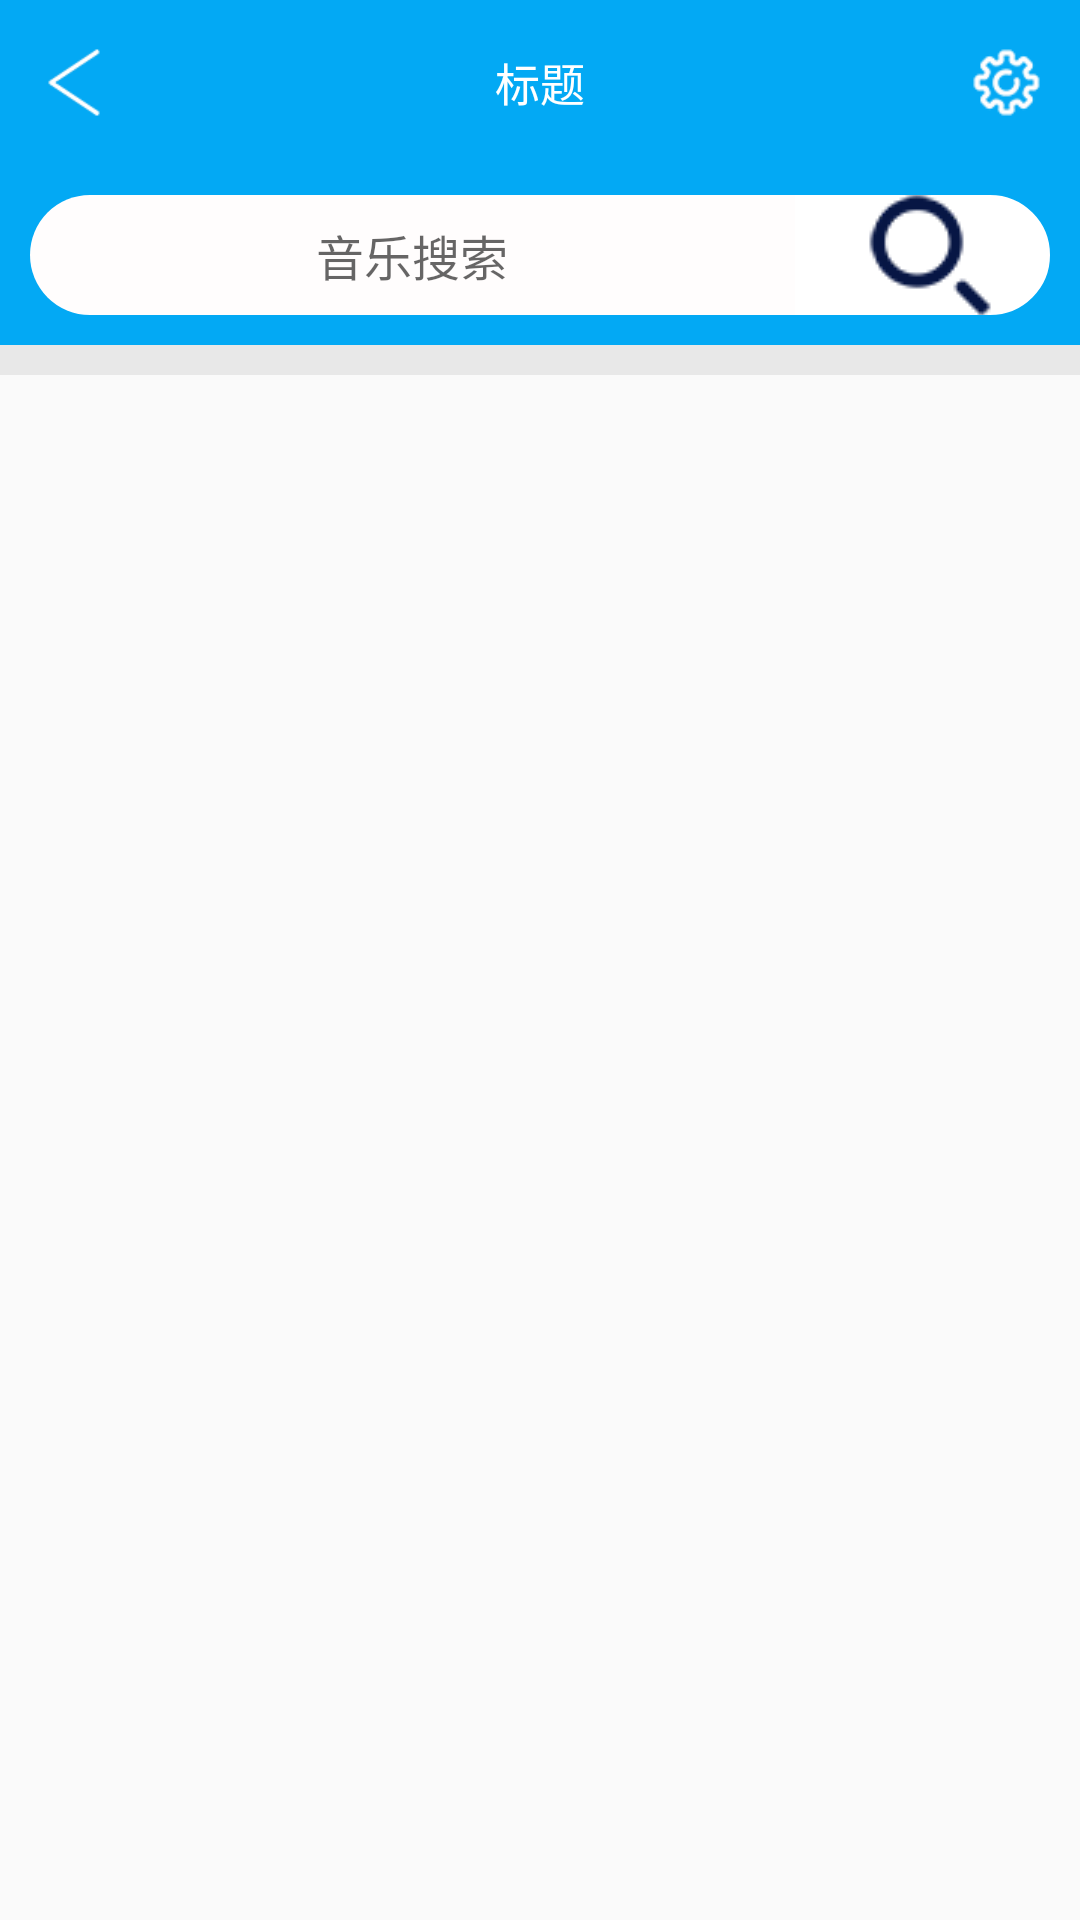

Named icons in this screenshot (1080w x 1920h) and their bounding boxes, region(x1, y1, x2, y2):
left: region(48, 49, 100, 116)
search botton: region(795, 195, 1050, 315)
setter: region(973, 49, 1040, 116)
